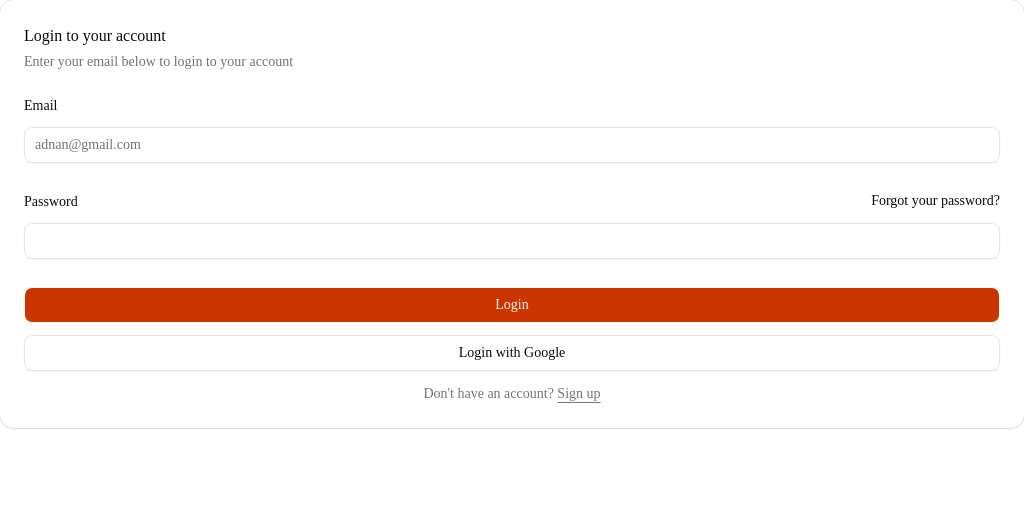
Test: Authentication Components › SignInForm › validates required fields
Click the button "Login" at (512, 305), box [24,287,1000,323]
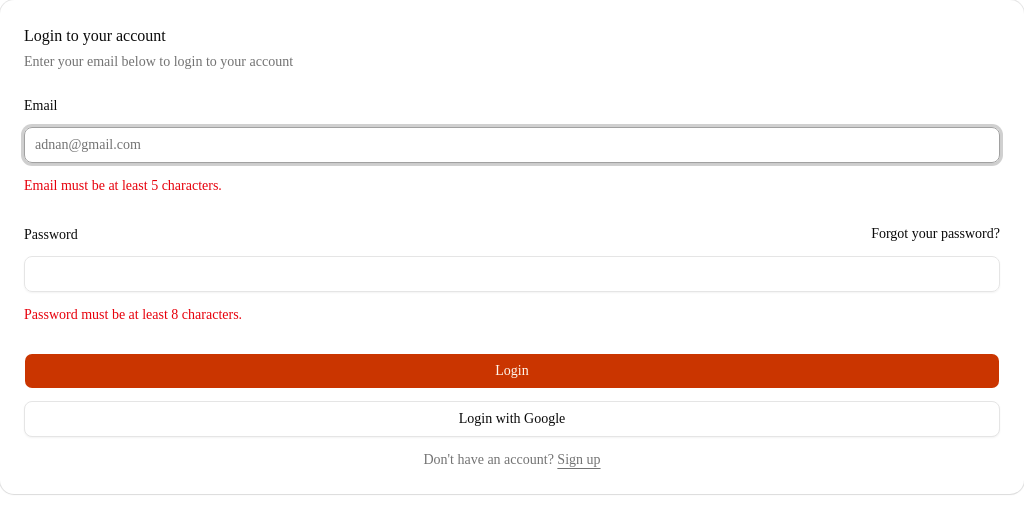
Expected: the text "Email must be at least 5 characters." is shown, [24,178,222,193]
Expected: the text "Password must be at least 8 characters." is shown, [24,307,242,322]
